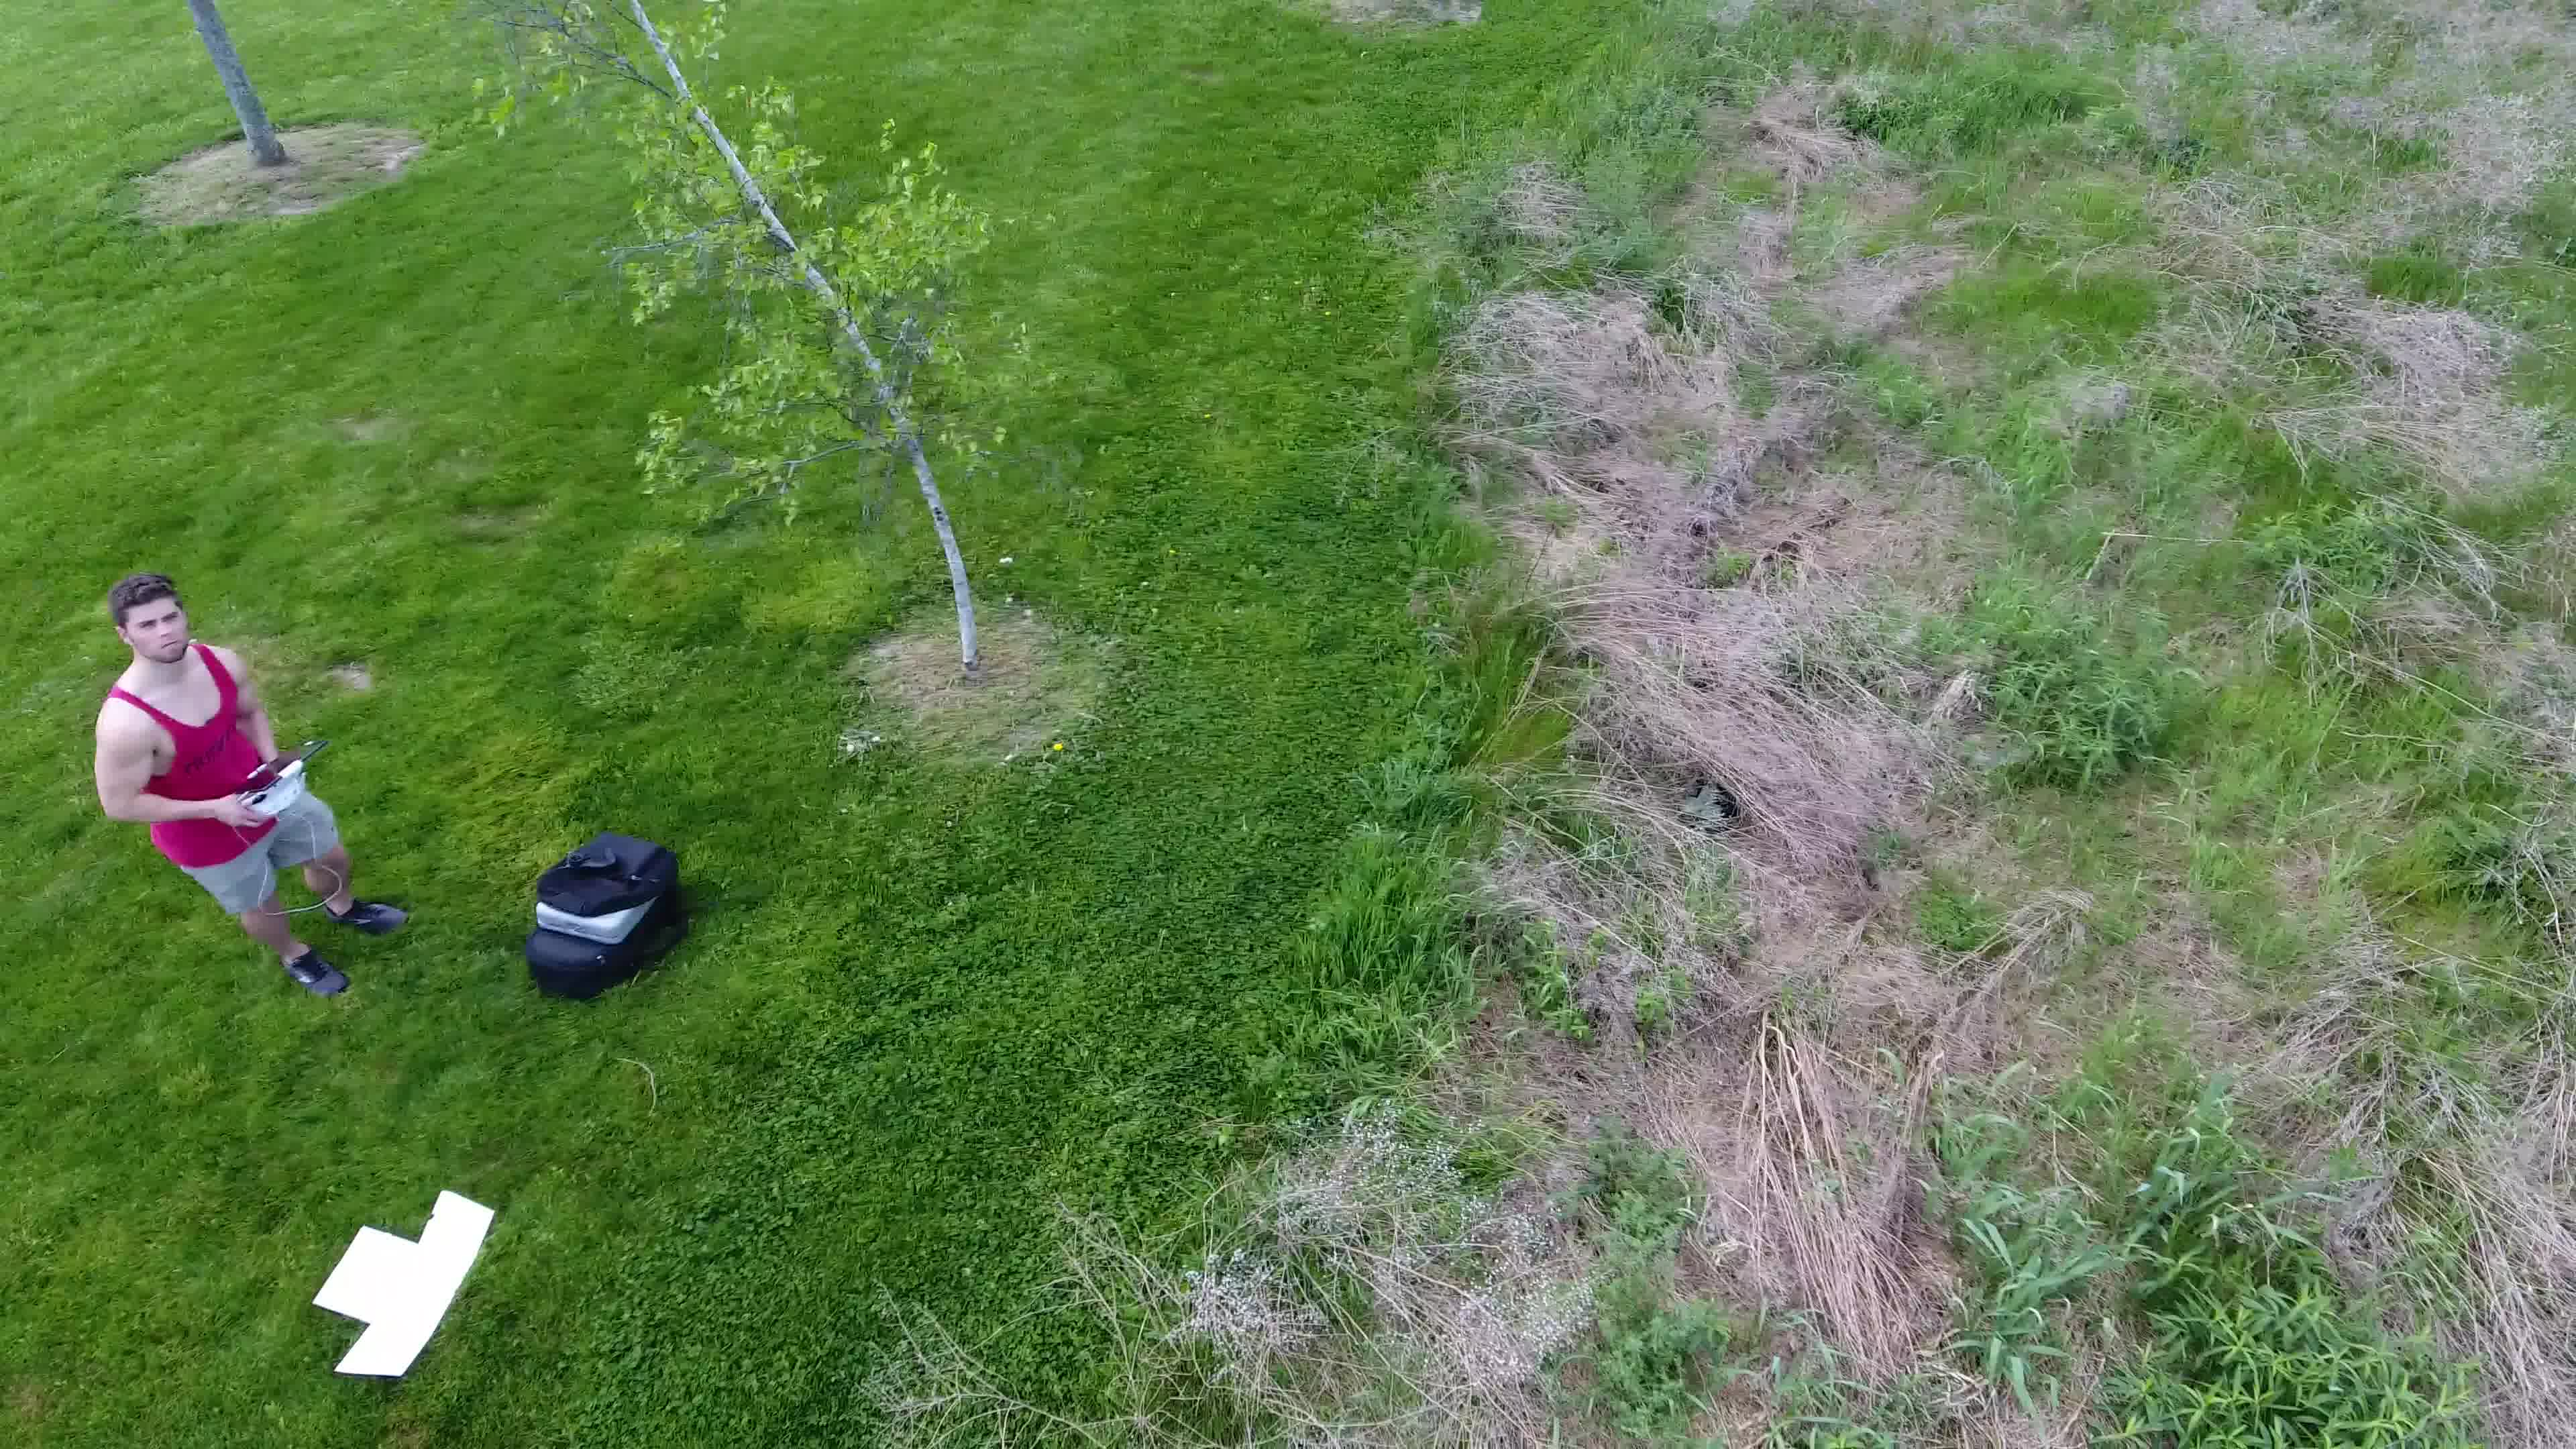transporter9: (1670, 768, 1741, 828)
